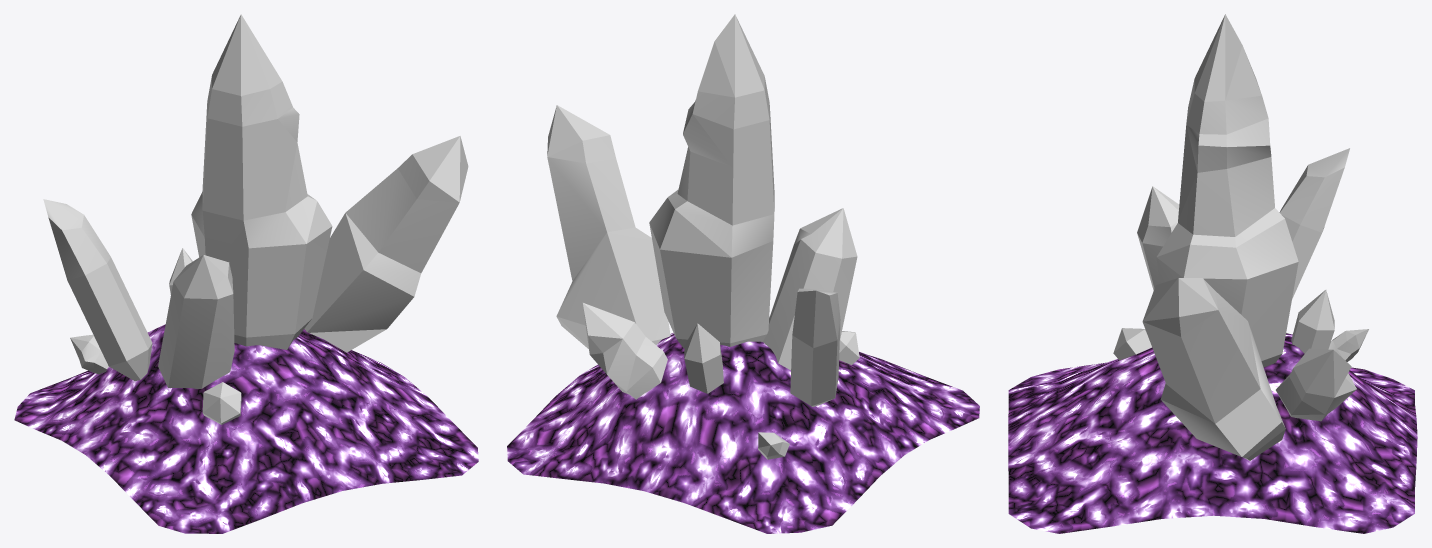
File: CRYSTAL_UNITY_LOW_02.FBX
The picture shows the model from 3 angles, left to right: view 1: azimuth 30°, elevation 25°; view 2: azimuth 150°, elevation 25°; view 3: azimuth 270°, elevation 25°; orthographic projection. The views are drawn at different scales.
Parts seen in each view (by area): view 1: CHRYTALS_LOW, Plane001; view 2: CHRYTALS_LOW, Plane001; view 3: CHRYTALS_LOW, Plane001.
Boxes of the visible parts, x1,y1,x2,y2 form: CHRYTALS_LOW: (43,14,468,424); Plane001: (14,324,478,533); CHRYTALS_LOW: (547,14,859,459); Plane001: (507,333,979,533); CHRYTALS_LOW: (1113,14,1368,460); Plane001: (1008,333,1417,533).
Bounding box in the file's own units: 80.13 × 86.87 × 73.3.
1 material, 1 textured.
